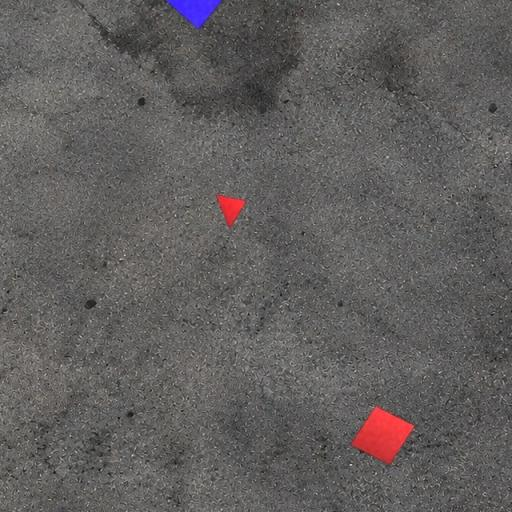RED_SQUARE: (350, 404, 416, 466)
